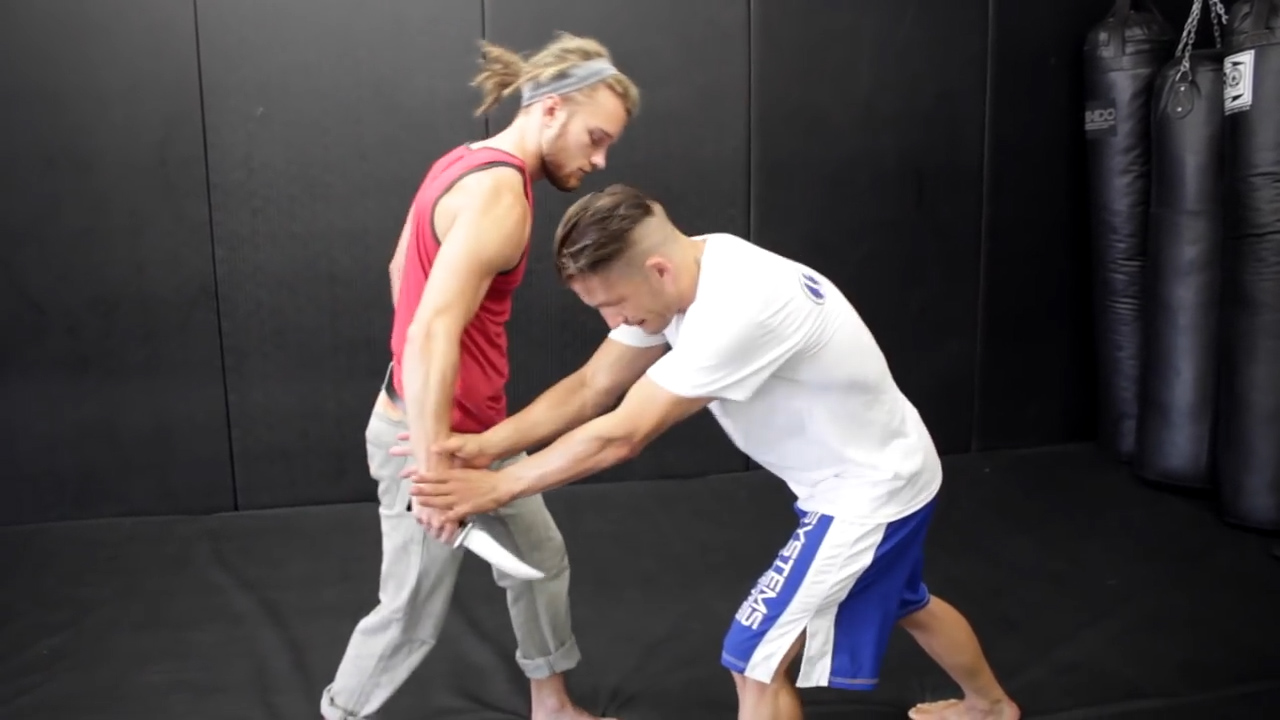knife: (401, 495, 554, 590)
